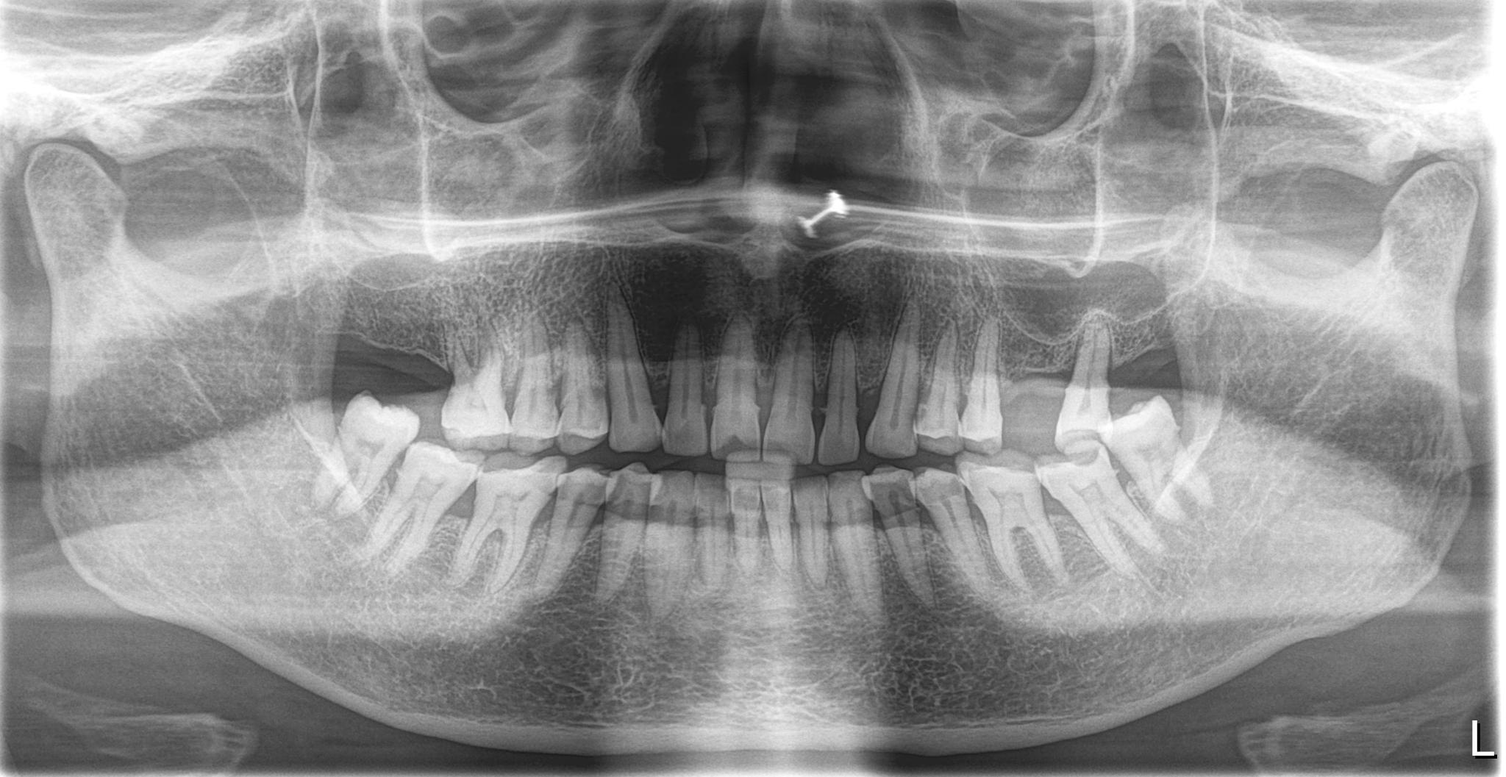Impacted Third Molar: (333, 395, 405, 501), (1110, 415, 1188, 505), (315, 458, 335, 458)
Missing Tooth: (1002, 342, 1064, 438), (388, 296, 440, 391), (329, 301, 382, 382), (1121, 327, 1179, 391)
